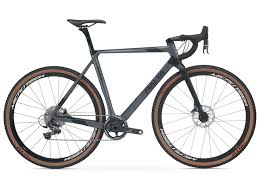bicycle: (3, 14, 258, 176)
